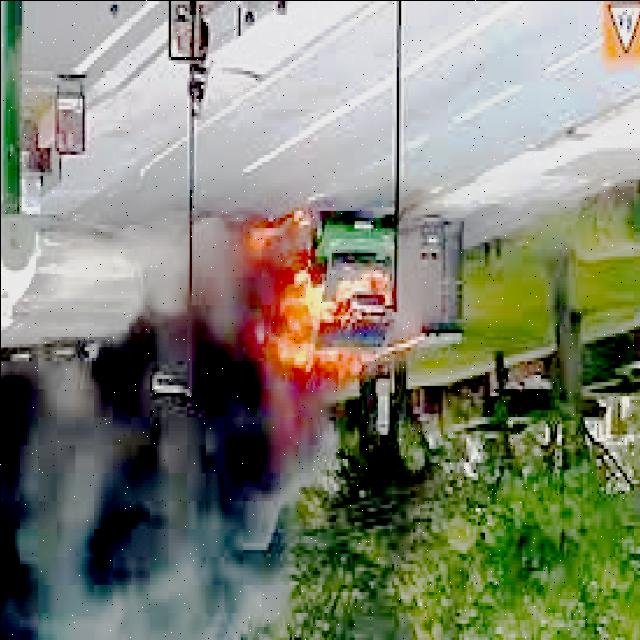api: (225, 218, 404, 393)
